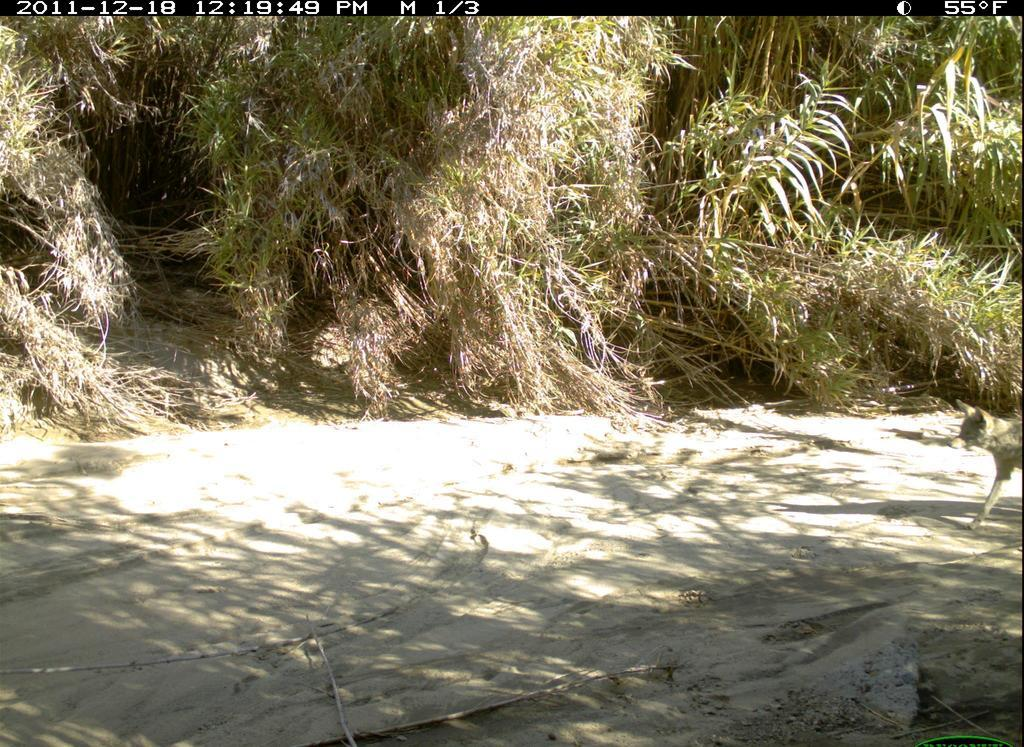coyote: (937, 385, 1023, 552)
